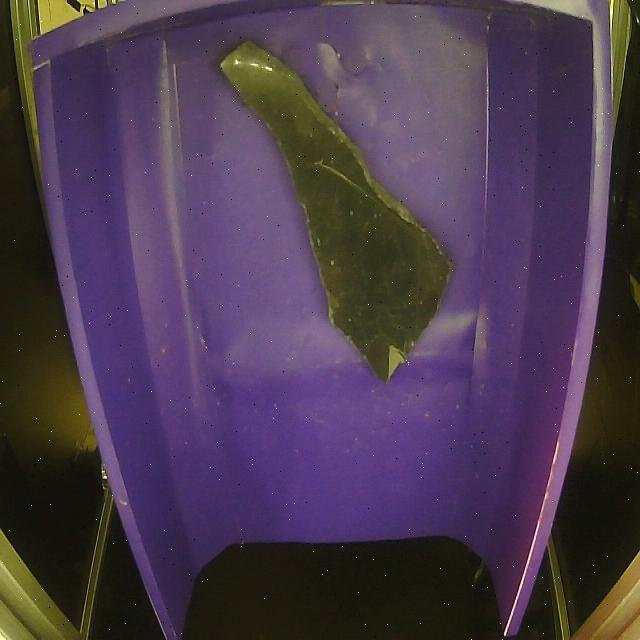china: (206, 29, 458, 396)
